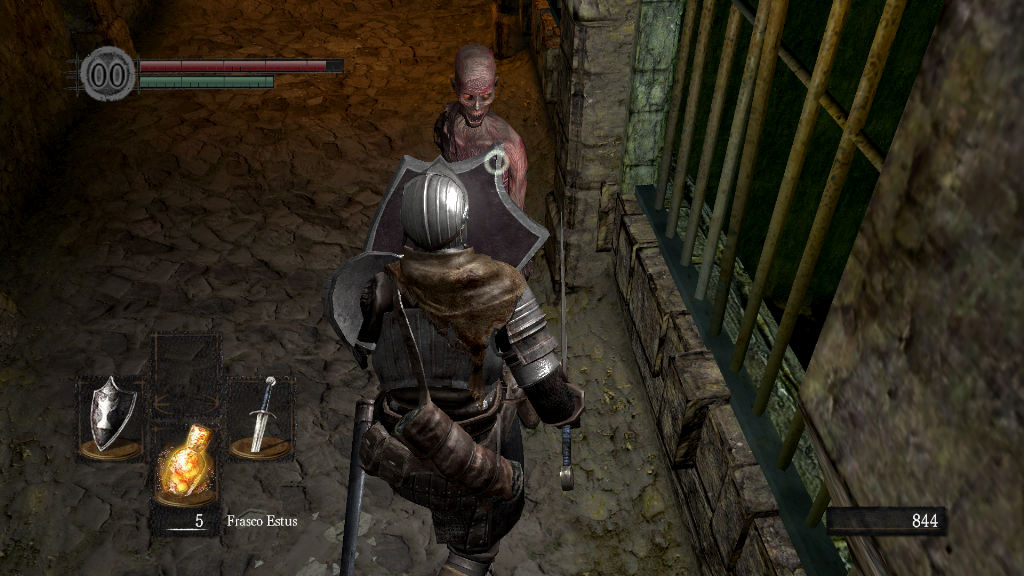health: (138, 58, 343, 71)
hollow: (432, 43, 528, 279)
humanity: (80, 45, 136, 102)
player: (325, 141, 586, 576)
souls: (825, 506, 945, 536)
stamina: (138, 74, 274, 88)
